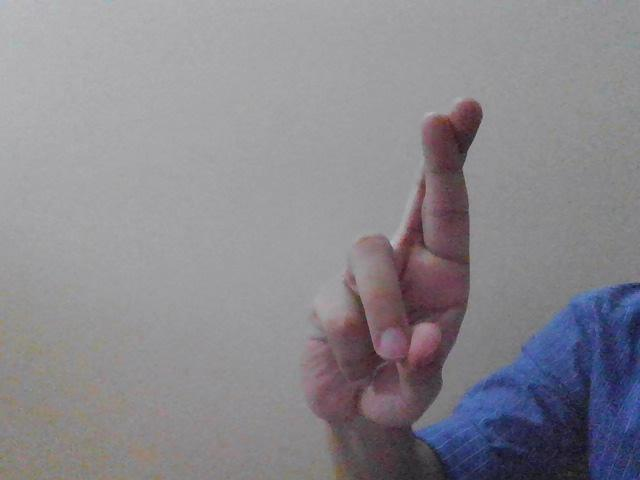R: (290, 92, 514, 446)
